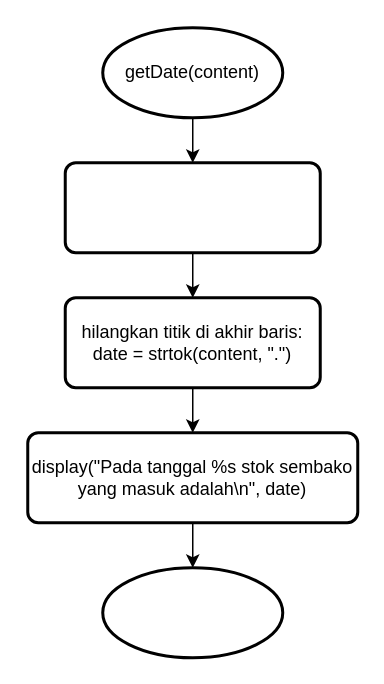
This 384x684 diagram has some shape labels left out. Here are the shapes that lost their labels. From the top down, the centre of each, then its label:
At (x=192, y=207): "Deklarasi variabel lokal: *date".
At (x=192, y=612): "return".
